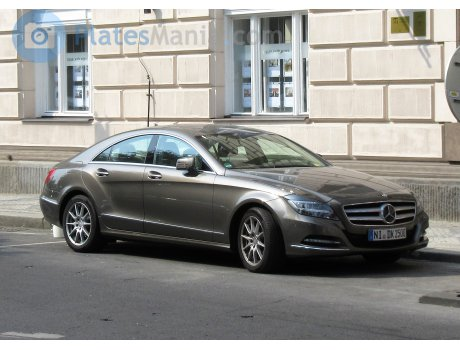License Plates: (370, 228, 414, 238)
